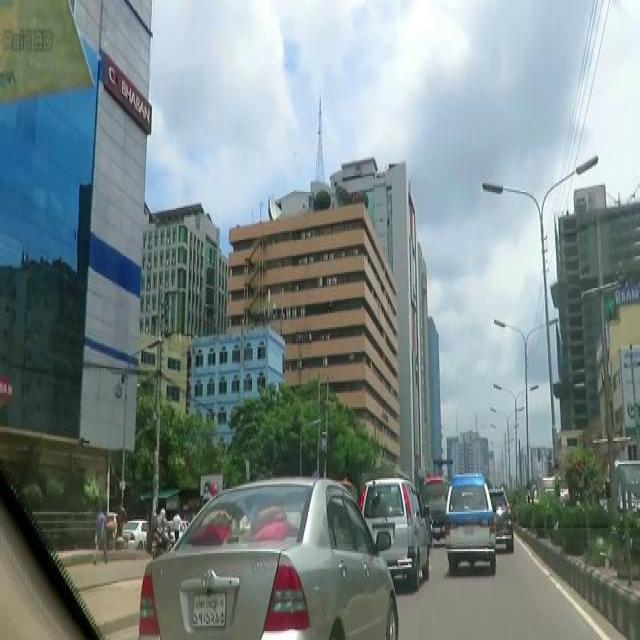bus: (423, 474, 451, 538)
car: (136, 473, 402, 636)
minivan: (358, 474, 432, 593)
van: (442, 470, 498, 575)
